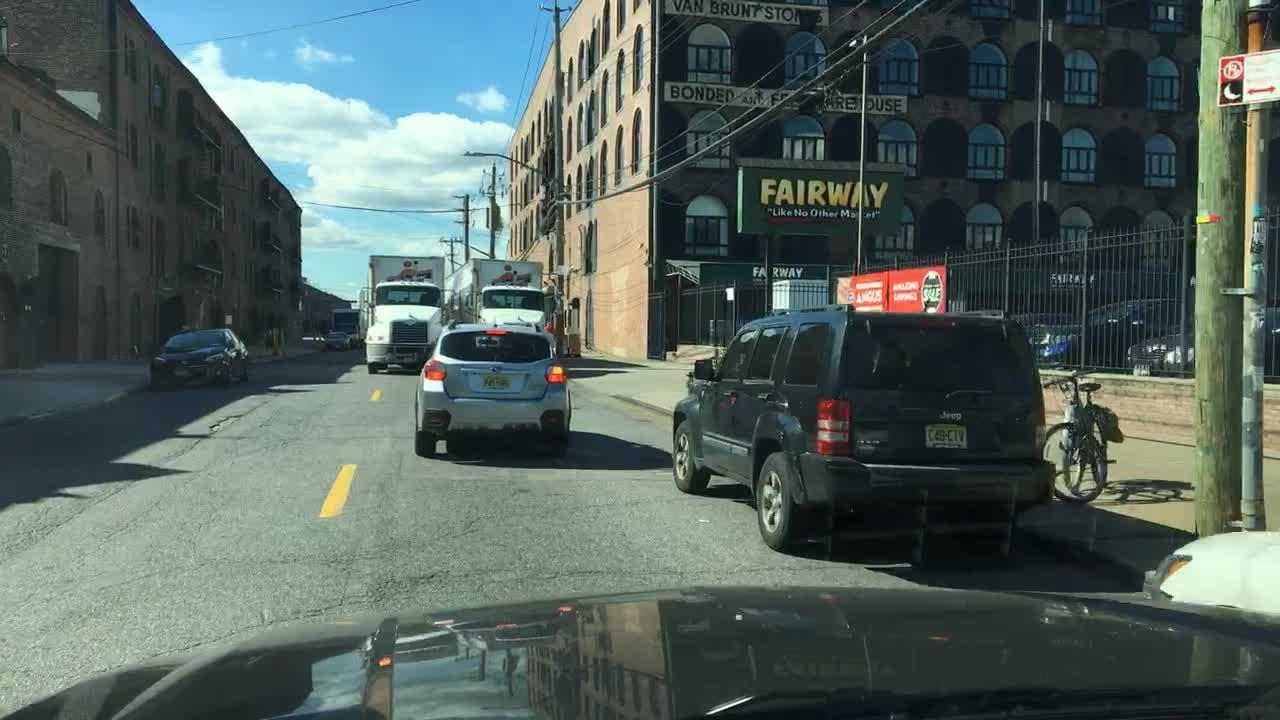jeep: (928, 400, 982, 425)
